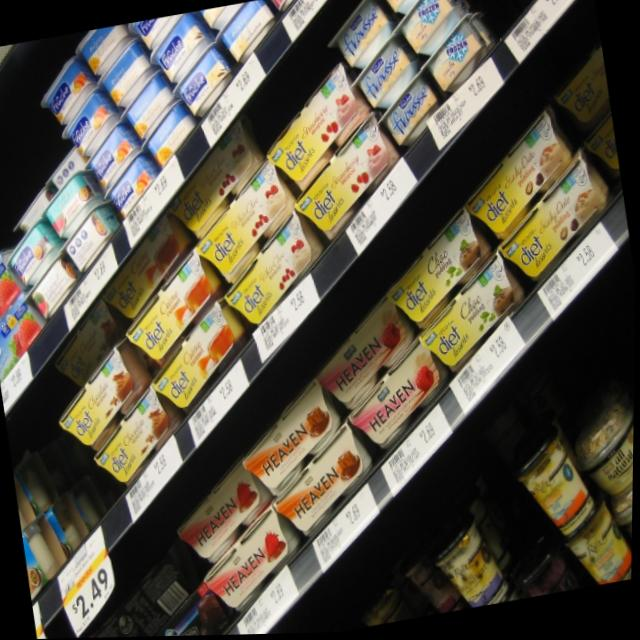q232: (332, 340, 457, 454), (305, 292, 423, 410)
